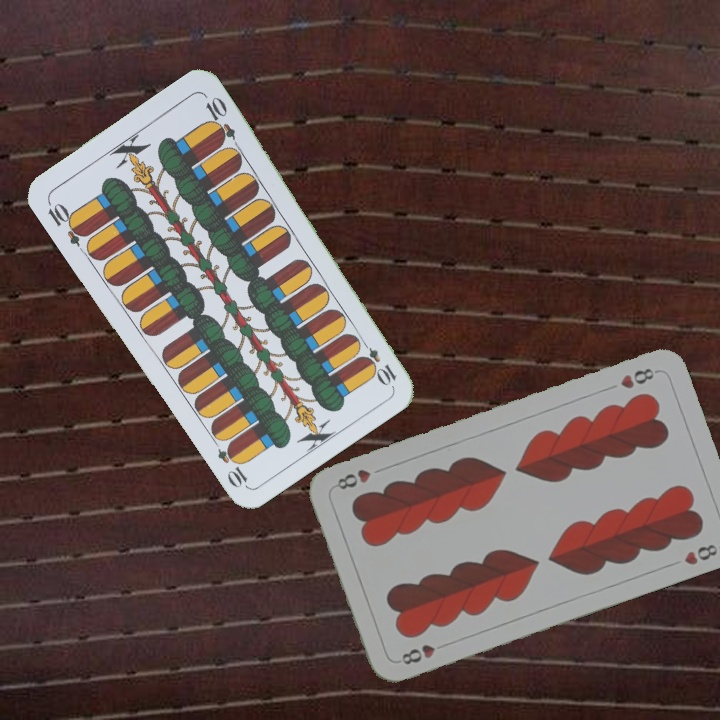E10: (43, 196, 90, 249), (355, 334, 399, 388)
H8: (398, 638, 451, 668), (616, 364, 661, 392)
